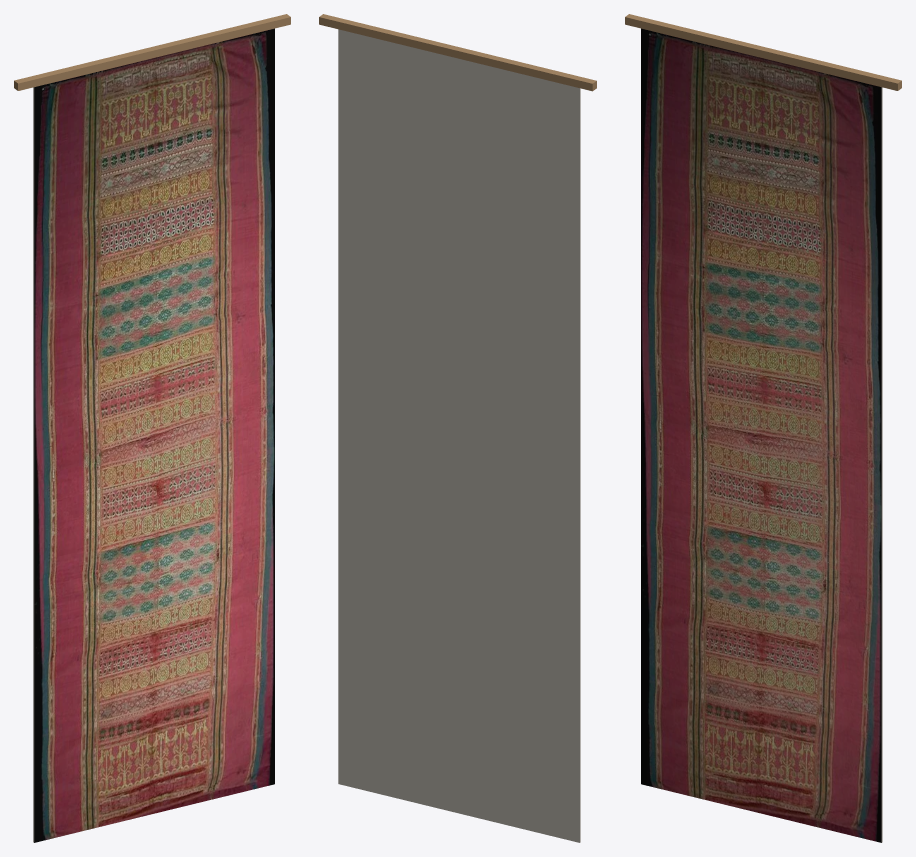
The model's file is tapestry-moroccan-banner.glb.
3 views of the same model, side by side, from view 1: azimuth 30°, elevation 25°; view 2: azimuth 150°, elevation 25°; view 3: azimuth 330°, elevation 25° (orthographic).
Parts seen in each view (by area): view 1: tapestry-moroccan-banner; view 2: tapestry-moroccan-banner; view 3: tapestry-moroccan-banner.
Part boxes in pixels (x1,y1,x2,y2): tapestry-moroccan-banner: [14, 14, 290, 842]; tapestry-moroccan-banner: [319, 14, 596, 842]; tapestry-moroccan-banner: [625, 14, 901, 842].
Bounding box in the file's own units: 0.6801 × 1.82 × 0.018.
Materials: 3 (1 with a texture image).
